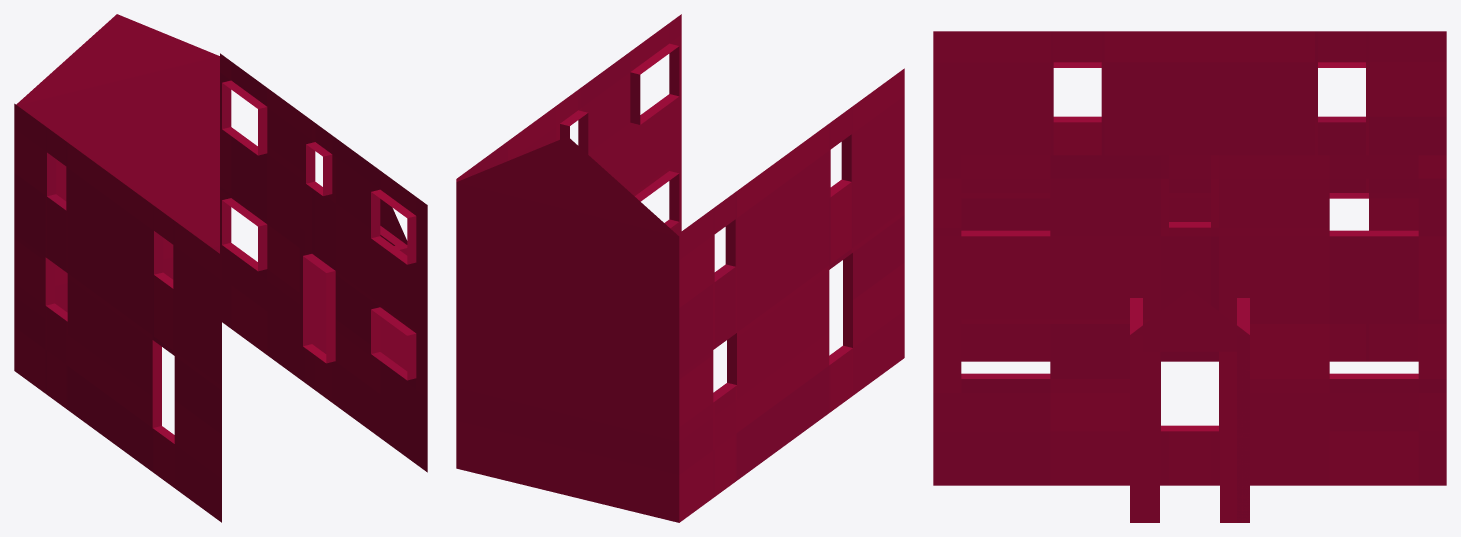
File: SM_Bld_034_Masonry.glb
3 renders of one model, left to right at view 1: azimuth 30°, elevation 25°; view 2: azimuth 150°, elevation 25°; view 3: azimuth 270°, elevation 25°, orthographic. The views are drawn at different scales.
Parts seen in each view (by area): view 1: SM_Bld_034_Masonry; view 2: SM_Bld_034_Masonry; view 3: SM_Bld_034_Masonry.
Boxes of the visible parts, x1,y1,x2,y2 form: SM_Bld_034_Masonry: [14, 14, 427, 522]; SM_Bld_034_Masonry: [456, 14, 904, 522]; SM_Bld_034_Masonry: [933, 31, 1446, 522].
Bounding box in the file's own units: 6.36 × 7.53 × 8.55.
